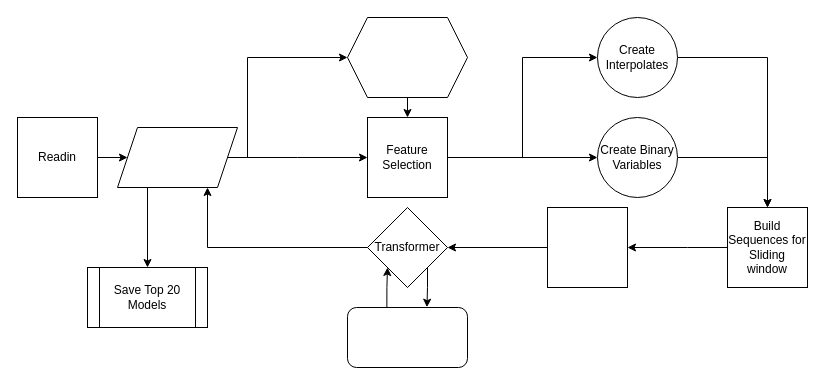
The diagram is 825 pixels wide and 385 high, and some of its shapes have lost their labels. Here are the shapes that lost their labels. From the top down, the centre of each, then its label:
At (x=407, y=57): "Granger Causality Test".
At (x=177, y=157): "Tuning grid".
At (x=587, y=247): "Build and batch tensor for input".
At (x=407, y=337): "Monte Carlo Simulation".
